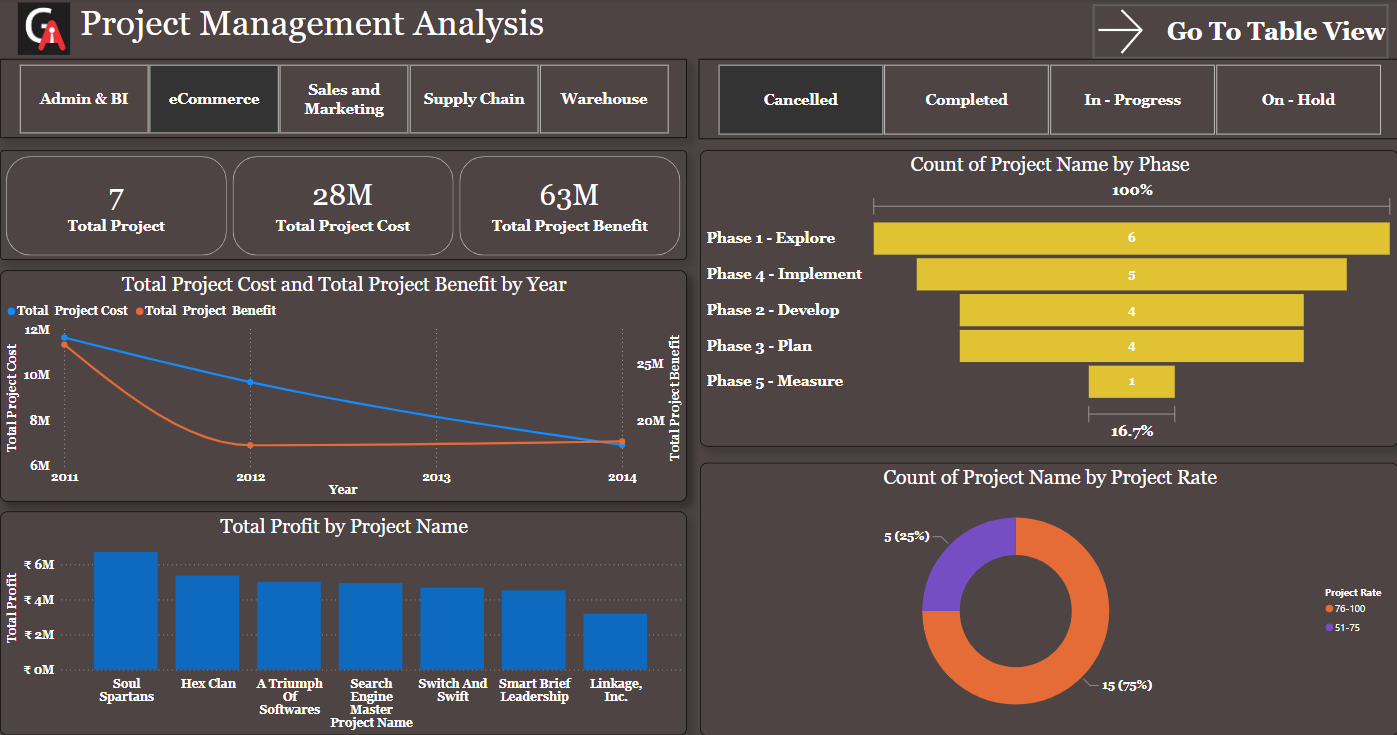

The dashboard page shown, as its layout file describes it:
{"tool":"powerbi","page":{"name":"Dashboard ","canvas":[1900,1000],"ordinal":0},"visuals":[{"type":"image","box":[17.3,0,86.3,81.1],"z":0},{"type":"textbox","box":[103.9,0,761,75.3],"z":1000},{"type":"actionButton","box":[1483.9,6.8,402.4,74.7],"z":2000},{"type":"lineChart","fields":{"Y":["Sum(Project. Project Cost )"],"Y2":["Sum(Project. Project Benefit )"],"Category":["Project.Year"]},"box":[0,369.1,932.7,314.5],"z":3000},{"type":"slicer","fields":{"Values":["Department.Department"]},"box":[0,81.8,932.7,107.3],"z":4000},{"type":"funnel","fields":{"Category":["Project.Phase"],"Y":["Count(Project.Project Name)"]},"box":[950.8,205.4,949.1,402.4],"z":5000},{"type":"columnChart","fields":{"Category":["Project.Project Name"],"Y":["Project.Profit"]},"box":[0,696.4,932.7,303.6],"z":6000},{"type":"slicer","fields":{"Values":["Project.Status"]},"box":[949.3,81.1,951,108.7],"z":7000},{"type":"donutChart","fields":{"Category":["Project.Project Rate"],"Y":["Count(Project.Project Name)"]},"box":[950.9,629.1,949.1,370.9],"z":8000},{"type":"cardVisual","fields":{"Data":["Count(Project.Project Name)","Sum(Project. Project Cost )","Sum(Project. Project Benefit )"]},"box":[0,205.5,932.7,149.1],"z":9000}]}

Visuals, with their boxes in screenshot pixels (x1, y1, x2, y2), scaled from the page's 1900x1000 canvas onto the 1397x735 screenshot:
image: 13 0 76 60
textbox: 76 0 636 55
actionButton: 1091 5 1387 60
lineChart - Sum(Project. Project Cost ) x Sum(Project. Project Benefit ): 0 271 686 502
slicer - Department.Department: 0 60 686 139
funnel - Project.Phase x Count(Project.Project Name): 699 151 1396 447
columnChart - Project.Project Name x Project.Profit: 0 512 686 734
slicer - Project.Status: 698 60 1396 140
donutChart - Project.Project Rate x Count(Project.Project Name): 699 462 1396 734
cardVisual - Count(Project.Project Name) x Sum(Project. Project Cost ): 0 151 686 261
